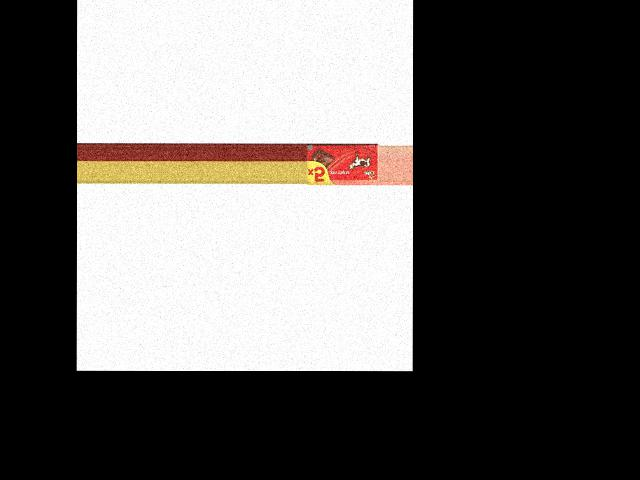chocolate: (306, 143, 380, 186)
